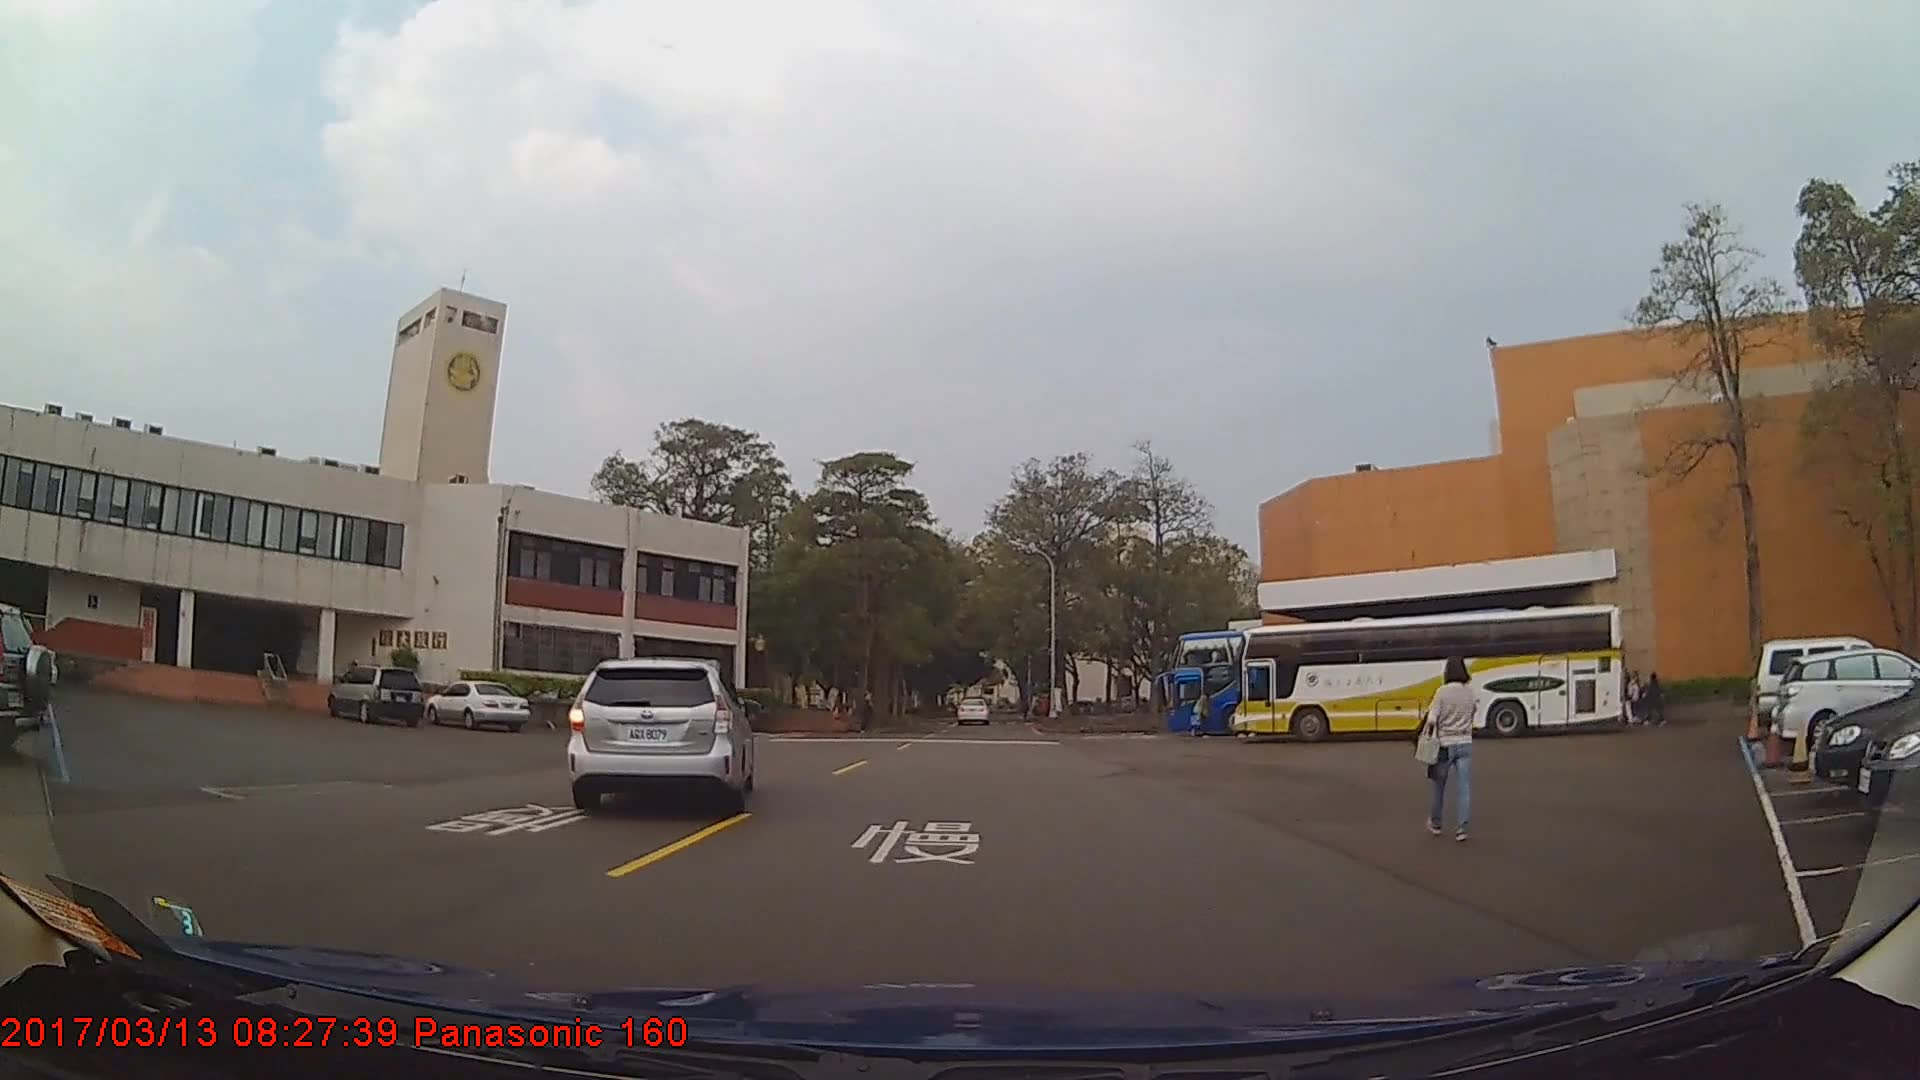pedestrian: (1412, 654, 1477, 843), (1639, 666, 1672, 731)
vehicle: (1230, 603, 1627, 747), (1163, 630, 1505, 738), (568, 651, 756, 807), (1771, 649, 1919, 754), (1749, 637, 1876, 732), (323, 666, 423, 725), (422, 679, 529, 730), (957, 697, 989, 726)
